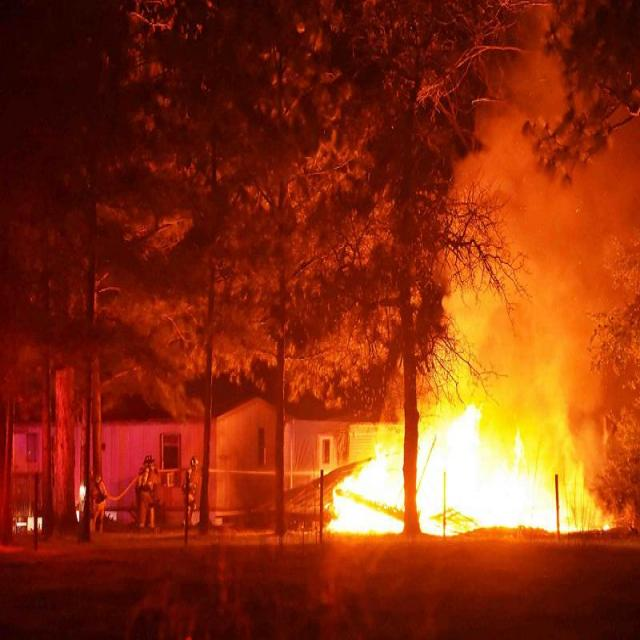fire: (321, 376, 617, 539)
